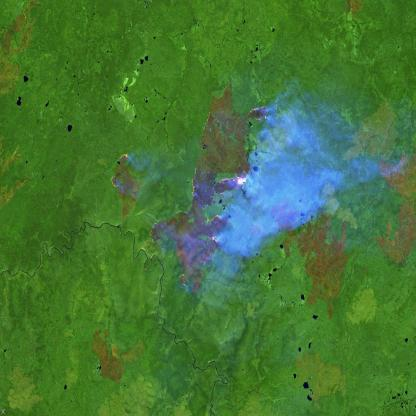fire: (107, 100, 275, 292)
